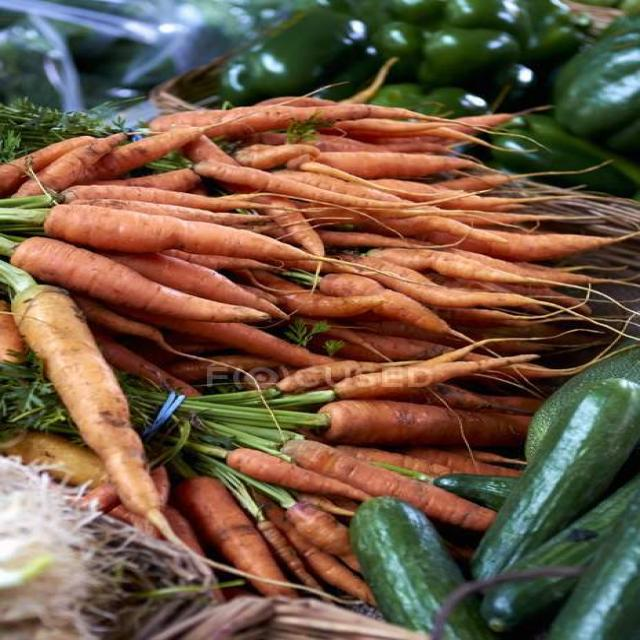Fresh_Carrot: (373, 226, 522, 366), (119, 176, 258, 322)
